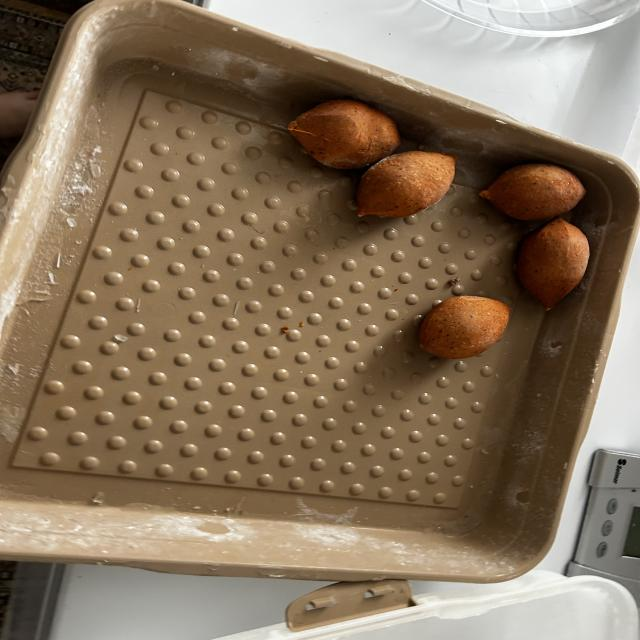kobi: (288, 99, 407, 168), (358, 150, 463, 218), (518, 220, 590, 310), (478, 168, 594, 220), (418, 296, 514, 358)
